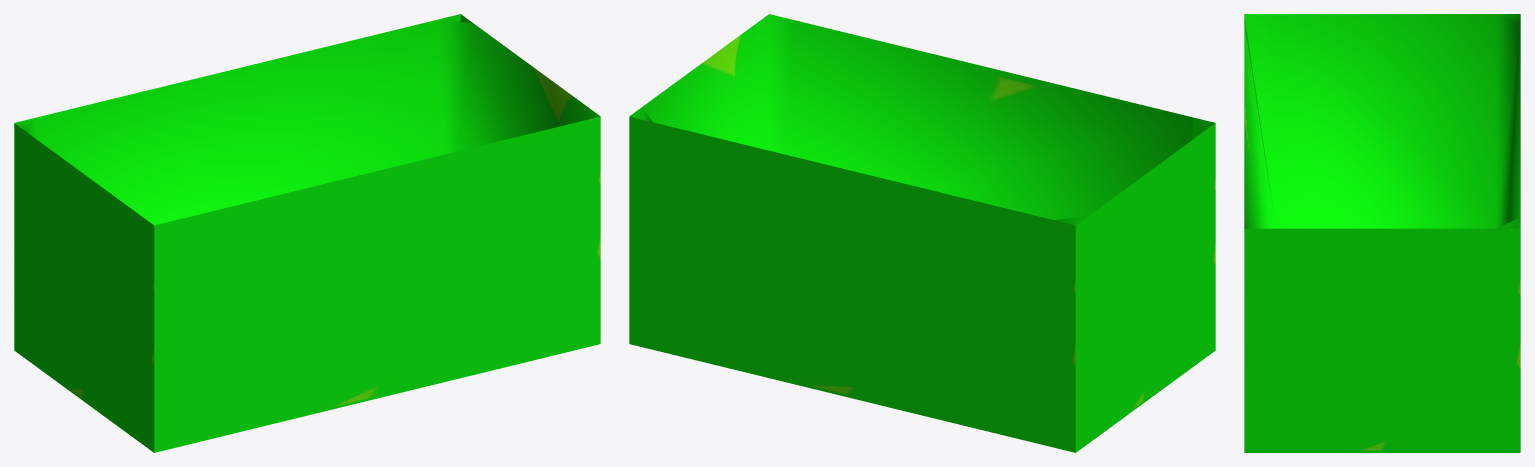
Rendered from karimodel.fbx.
3 renders of one model, left to right at view 1: azimuth 30°, elevation 25°; view 2: azimuth 150°, elevation 25°; view 3: azimuth 270°, elevation 25°, orthographic.
Visible parts, largest first — view 1: Box001; view 2: Box001; view 3: Box001.
Part boxes in pixels (bbox=[...]): Box001: bbox=[14, 14, 600, 452]; Box001: bbox=[629, 14, 1215, 452]; Box001: bbox=[1244, 14, 1520, 452].
Bounding box in the file's own units: 238 × 129 × 116.
1 material, 1 textured.
